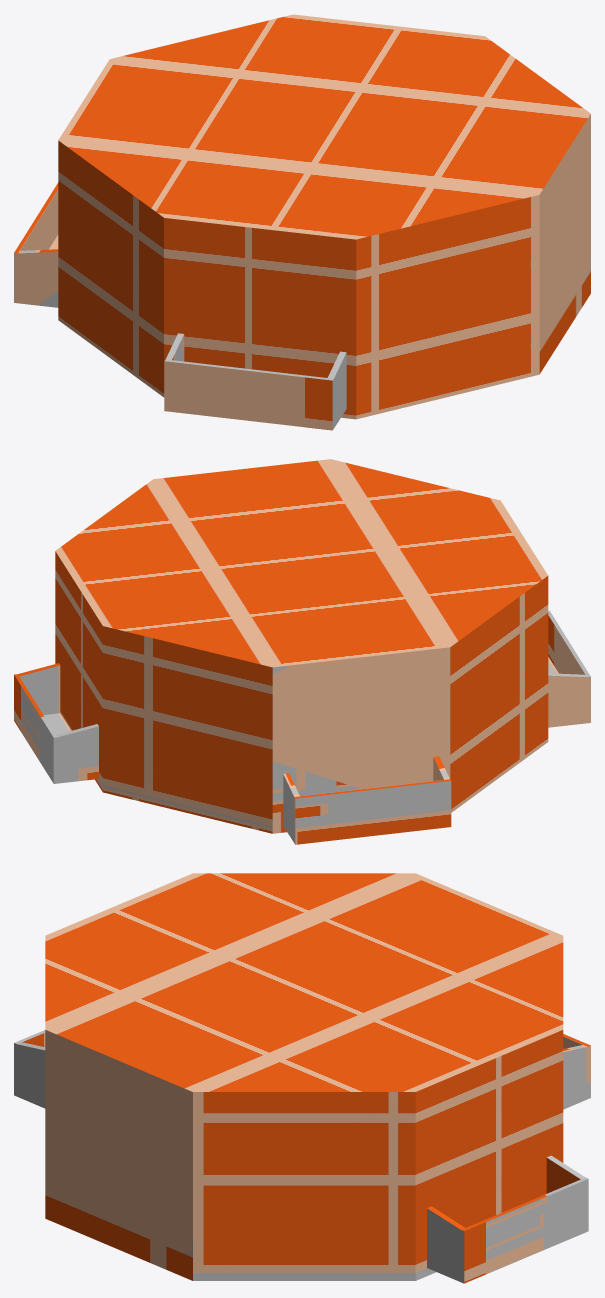
File: 3_balkonlu_kat.fbx
3 views of the same model, one above another, from view 1: azimuth 30°, elevation 25°; view 2: azimuth 150°, elevation 25°; view 3: azimuth 270°, elevation 25° (orthographic). The views are drawn at different scales.
Visible parts, largest first — view 1: Cube.003; view 2: Cube.003; view 3: Cube.003.
Part boxes in pixels (<box>): Cube.003: <box>14,14,590,430</box>; Cube.003: <box>14,459,590,844</box>; Cube.003: <box>14,873,590,1283</box>.
Size of the model in its own units: 221 by 80.52 by 223.
